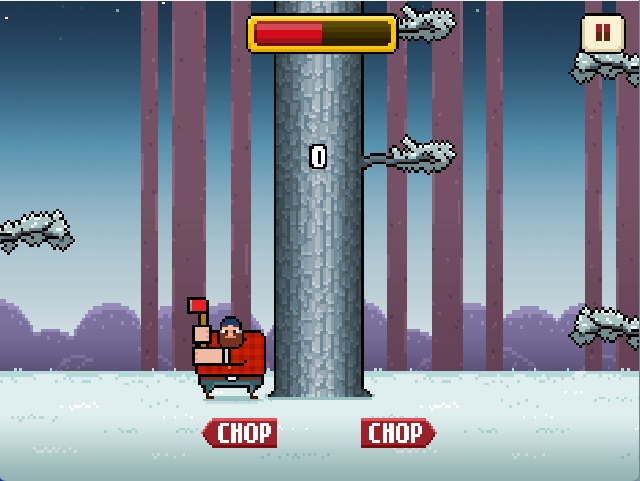right_obs: (359, 130, 459, 185)
timberman: (183, 291, 269, 404)
